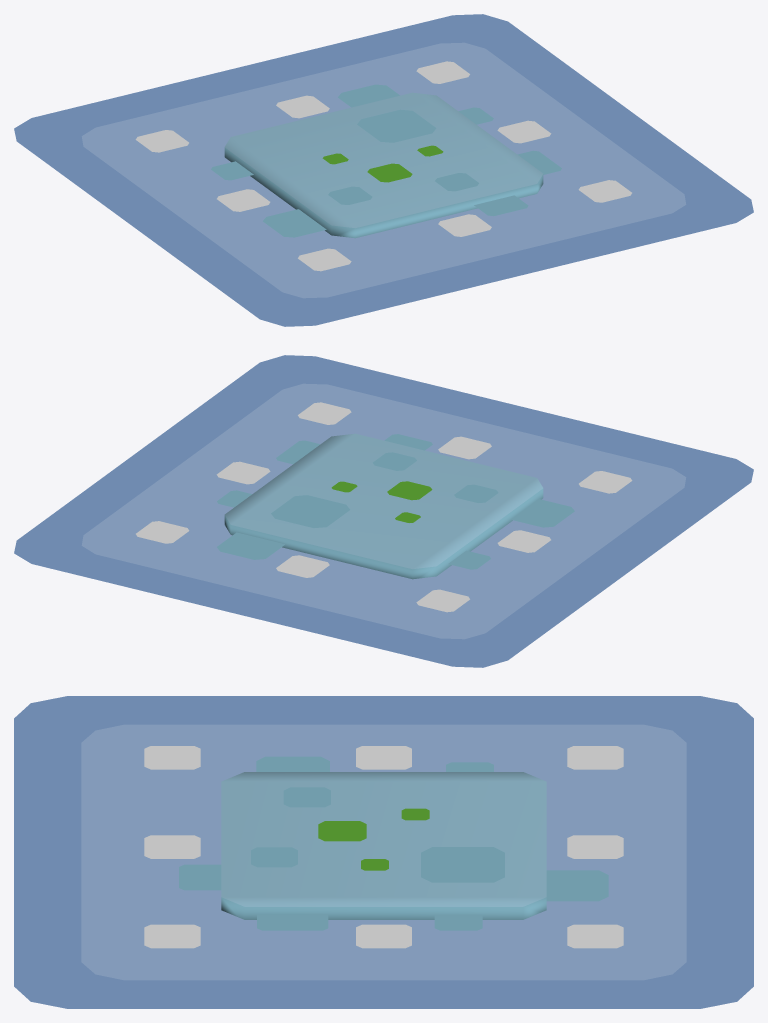
The model's file is BC_cookrecipe_13.fbx.
3 views of the same model, one above another, from view 1: azimuth 30°, elevation 25°; view 2: azimuth 150°, elevation 25°; view 3: azimuth 270°, elevation 25° (orthographic). The views are drawn at different scales.
Visible parts, largest first — view 1: base, main, boko42, boko45, boko40, boko43, boko46, boko39, boko44, boko41; view 2: base, main, boko42, boko39, boko40, boko43, boko46, boko41, boko45, boko44; view 3: base, main, boko39, boko45, boko43, boko40, boko41, boko44, boko46, boko42.
Part boxes in pixels (x1,y1,x2,y2): base: [14, 14, 753, 326]; main: [211, 84, 561, 238]; boko42: [217, 189, 270, 211]; boko45: [578, 180, 631, 202]; boko40: [276, 95, 329, 118]; boko43: [497, 120, 551, 143]; boko46: [438, 214, 491, 236]; boko39: [416, 61, 469, 83]; boko44: [298, 248, 351, 271]; boko41: [135, 130, 188, 152]; base: [14, 355, 753, 667]; main: [217, 433, 574, 579]; boko42: [497, 530, 550, 552]; boko39: [136, 521, 189, 543]; boko40: [276, 555, 329, 577]; boko43: [216, 461, 270, 484]; boko46: [438, 436, 491, 459]; boko41: [416, 589, 469, 612]; boko45: [298, 402, 351, 424]; boko44: [579, 471, 632, 493]; base: [14, 696, 753, 1008]; main: [179, 756, 608, 930]; boko39: [567, 924, 623, 948]; boko45: [144, 924, 200, 948]; boko43: [356, 924, 411, 948]; boko40: [567, 835, 623, 858]; boko41: [567, 746, 623, 769]; boko44: [144, 746, 200, 769]; boko46: [144, 835, 200, 858]; boko42: [356, 746, 411, 769].
Bounding box in the file's own units: 3.5 × 0.0968 × 3.5.
